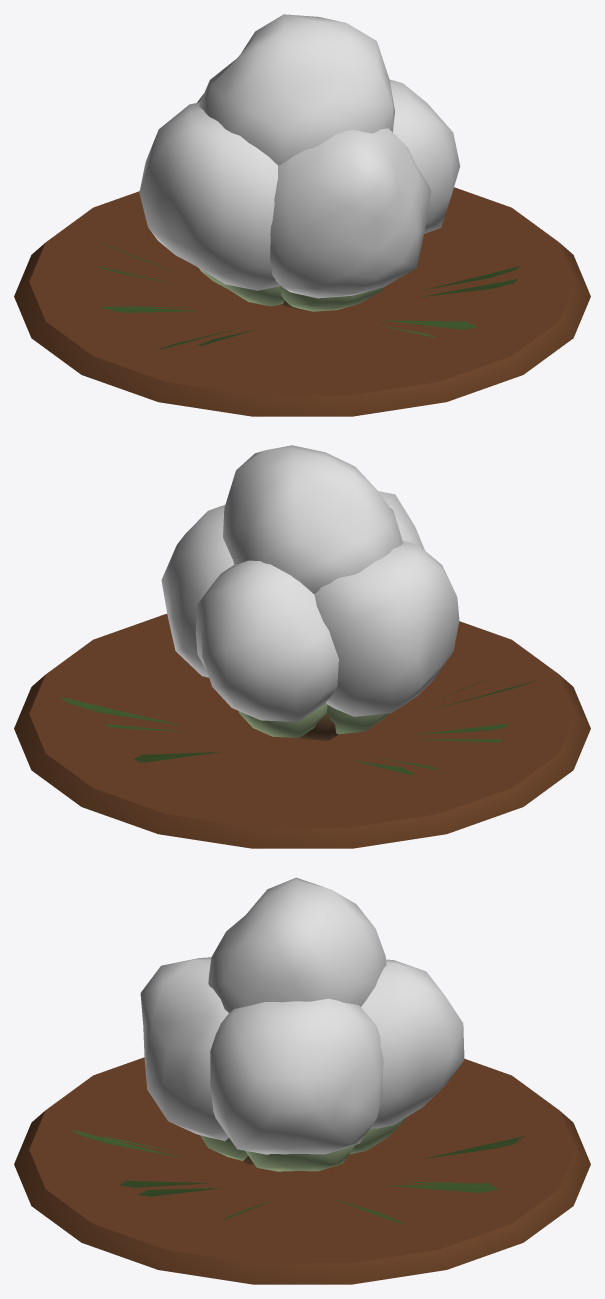
The model's file is cotton.glb.
3 renders of one model, top to bottom at view 1: azimuth 30°, elevation 25°; view 2: azimuth 150°, elevation 25°; view 3: azimuth 270°, elevation 25°, orthographic.
Visible parts, largest first — view 1: crop-cotton-giant, crop-cotton-giant-2; view 2: crop-cotton-giant, crop-cotton-giant-2; view 3: crop-cotton-giant, crop-cotton-giant-2.
Part boxes in pixels (x1,y1,x2,y2): crop-cotton-giant: [14, 14, 590, 416]; crop-cotton-giant-2: [96, 266, 520, 345]; crop-cotton-giant: [14, 445, 590, 848]; crop-cotton-giant-2: [106, 679, 501, 770]; crop-cotton-giant: [14, 877, 590, 1284]; crop-cotton-giant-2: [101, 1117, 521, 1284].
Size of the model in its own units: 5.61 by 3.05 by 5.7.
